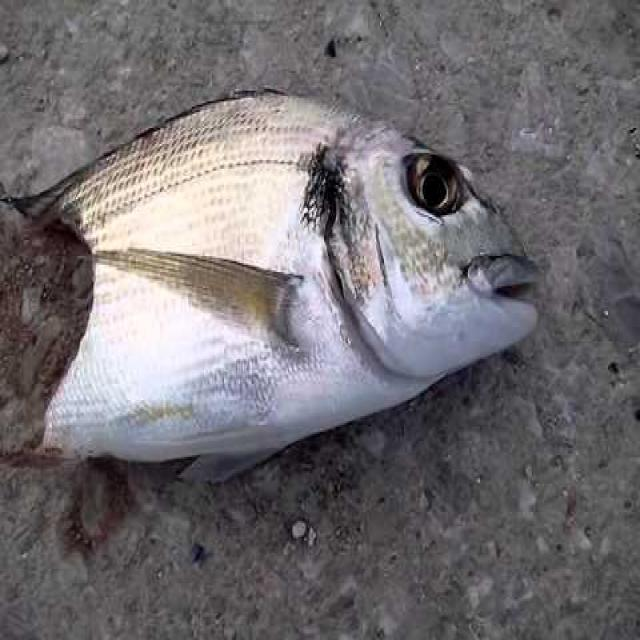EUS Disease: (0, 101, 546, 475)
